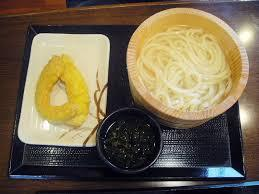pumpkin: (36, 57, 65, 123)
